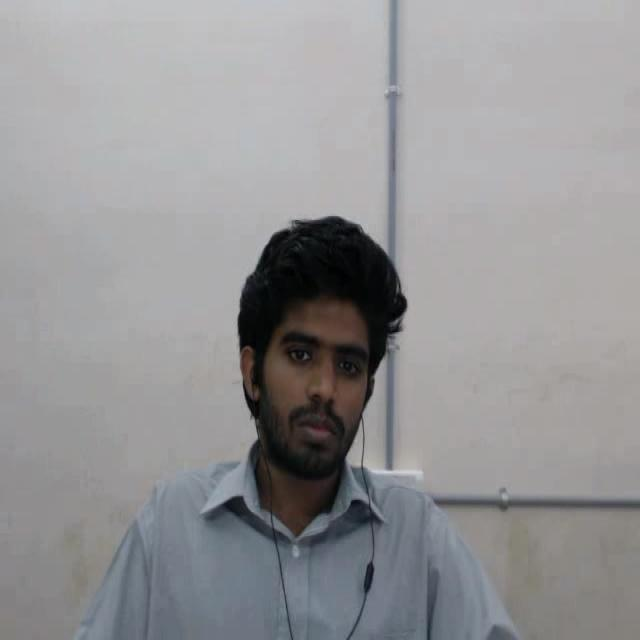Engaged: (201, 184, 467, 541)
